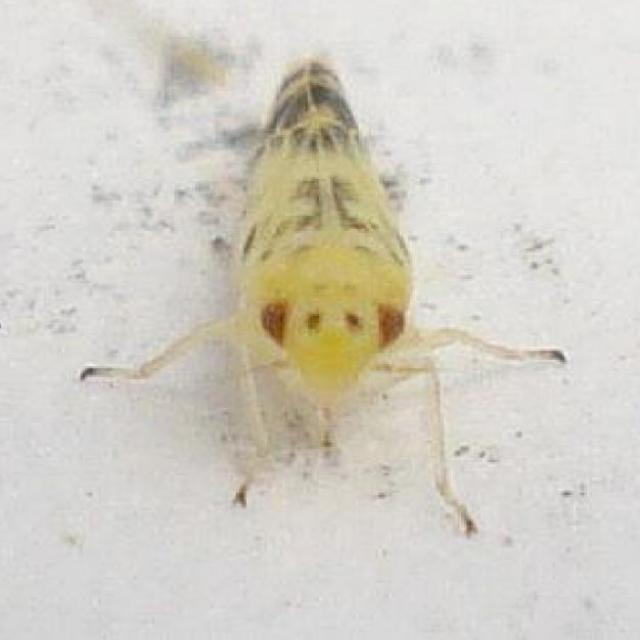green leaf hopper: (81, 58, 565, 532)
